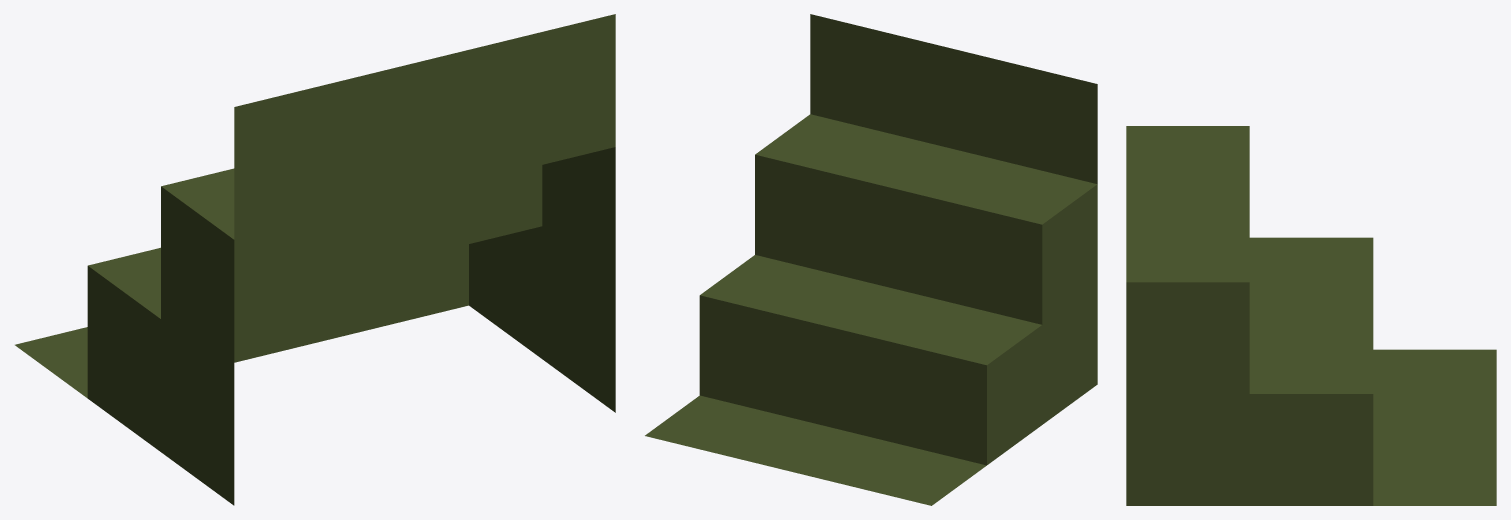
The model's file is escalier 1.fbx.
The picture shows the model from 3 angles, left to right: view 1: azimuth 30°, elevation 25°; view 2: azimuth 150°, elevation 25°; view 3: azimuth 270°, elevation 25°; orthographic projection. The views are drawn at different scales.
Parts seen in each view (by area): view 1: Escalier; view 2: Escalier; view 3: Escalier.
Boxes of the visible parts, <box> form: Escalier: <box>15,14,615,505</box>; Escalier: <box>645,14,1097,505</box>; Escalier: <box>1126,126,1496,505</box>.
Bounding box in the file's own units: 100 × 100 × 100.
